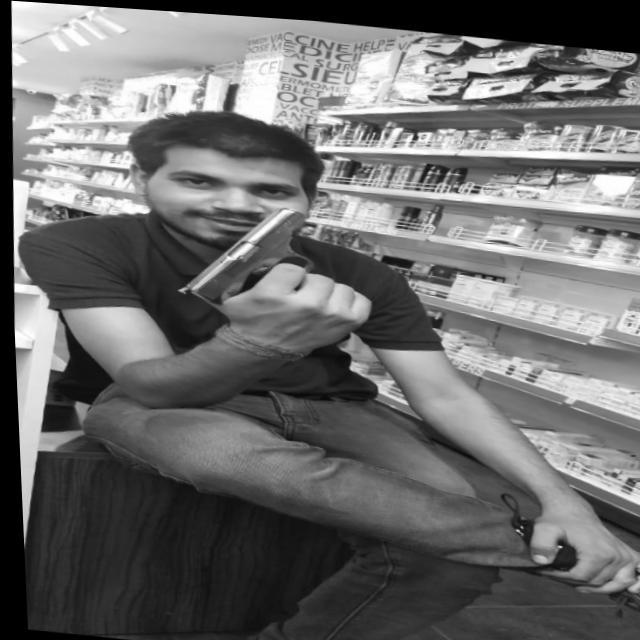weapon: (165, 192, 368, 346)
